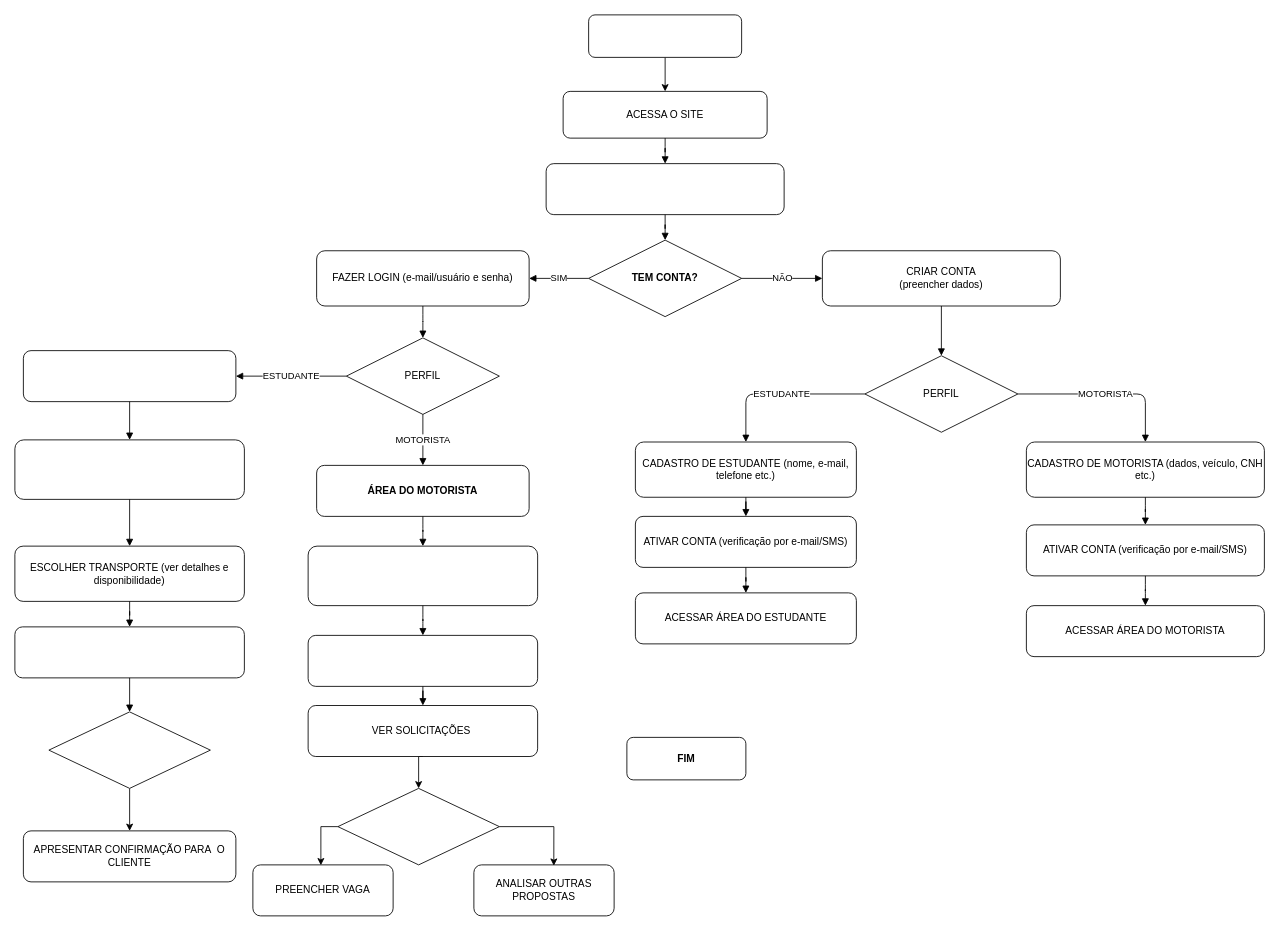
The diagram is 1279 pixels wide and 931 high, and some of its shapes have lost their labels. The box of each missing label's shape, as (x1, y1, x2, y2) in pixels:
ACEITAR SOLICITAÇÃO: (337, 788, 499, 865)
CADASTRAR / GERENCIAR ROTAS (origem, destino, horários): (307, 545, 538, 606)
CONFIRMAÇÃO DA VAGA: (48, 711, 210, 788)
CONSULTAR TRANSPORTES (rotas, horários, destinos e valores): (14, 439, 244, 499)
DEFINIR VAGAS E VALORES: (307, 635, 538, 686)
INÍCIO: (588, 14, 742, 57)
PÁGINA INICIAL: (545, 163, 784, 215)
SOLICITAR VAGA: (14, 626, 244, 678)
ÁREA DO ESTUDANTE: (23, 350, 236, 402)
